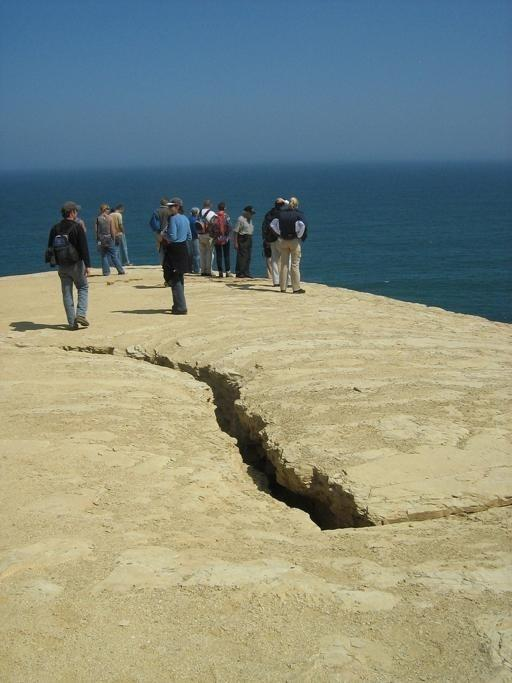Crack: (0, 335, 511, 528)
